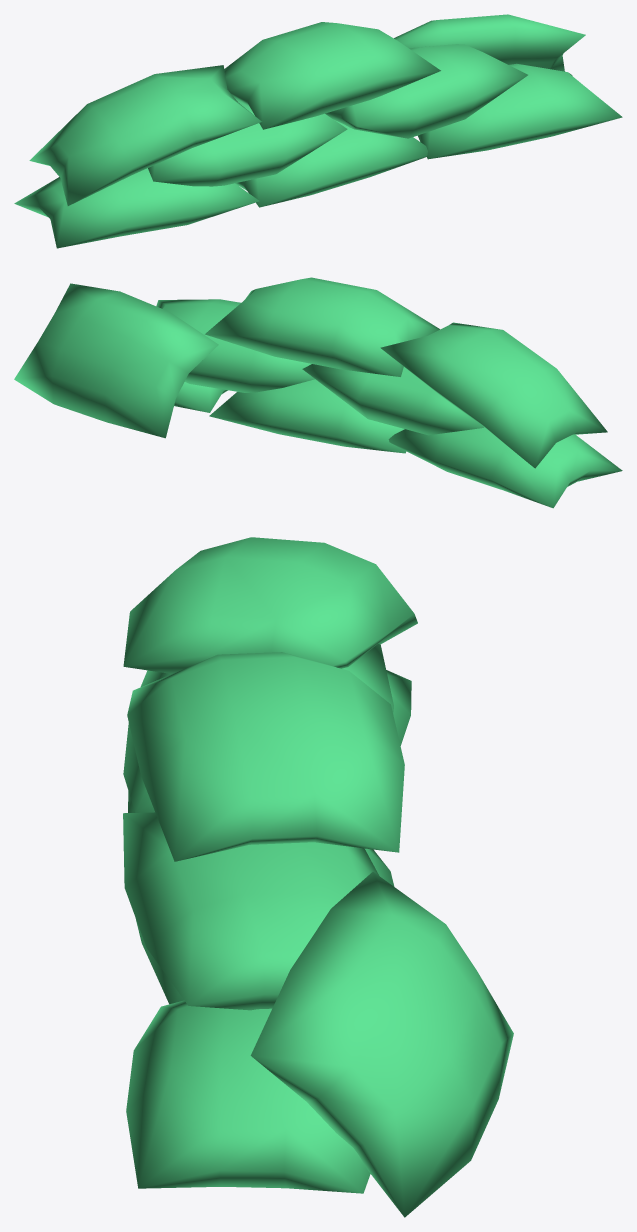
The model's file is bags_obj.obj.
3 renders of one model, top to bottom at view 1: azimuth 30°, elevation 25°; view 2: azimuth 150°, elevation 25°; view 3: azimuth 270°, elevation 25°, orthographic. The views are drawn at different scales.
Parts seen in each view (by area): view 1: bags; view 2: bags; view 3: bags.
Part boxes in pixels (x1,y1,x2,y2): bags: [14, 14, 622, 248]; bags: [14, 277, 622, 508]; bags: [123, 537, 513, 1217].
Size of the model in its own units: 33.04 by 7.35 by 10.08.
